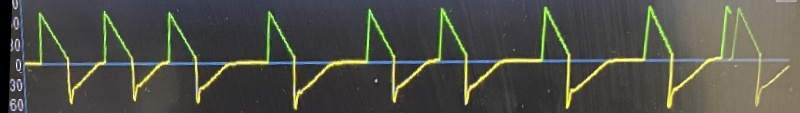normal_flow: (24, 0, 732, 113)
